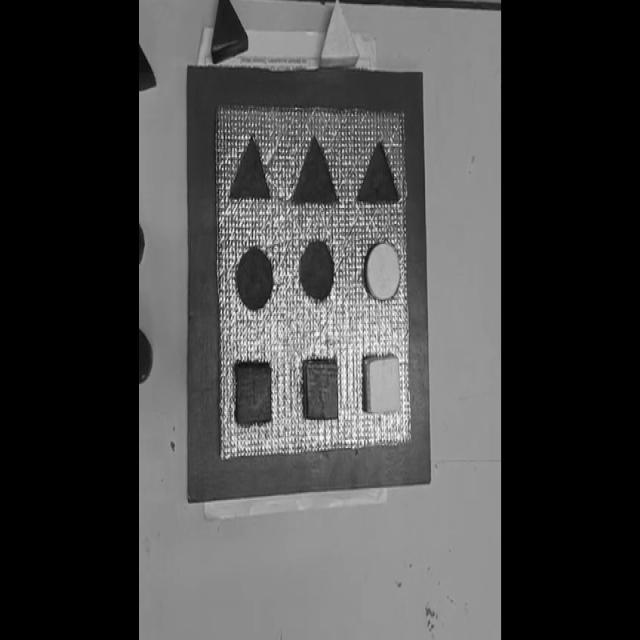bcircle: (138, 223, 145, 264)
bcube: (234, 361, 273, 426)
btriangle: (139, 47, 156, 93)
mtcircle: (235, 245, 276, 312), (300, 239, 334, 301)
mttriangle: (291, 134, 338, 207), (230, 133, 274, 202), (358, 141, 400, 206)
rcircle: (139, 329, 152, 383)
rcube: (303, 358, 339, 422)
rtriangle: (210, 0, 249, 65)
wb: (214, 104, 412, 464)
ycircle: (364, 239, 404, 303)
ycube: (364, 354, 401, 416)
ytriangle: (320, 1, 358, 68)
